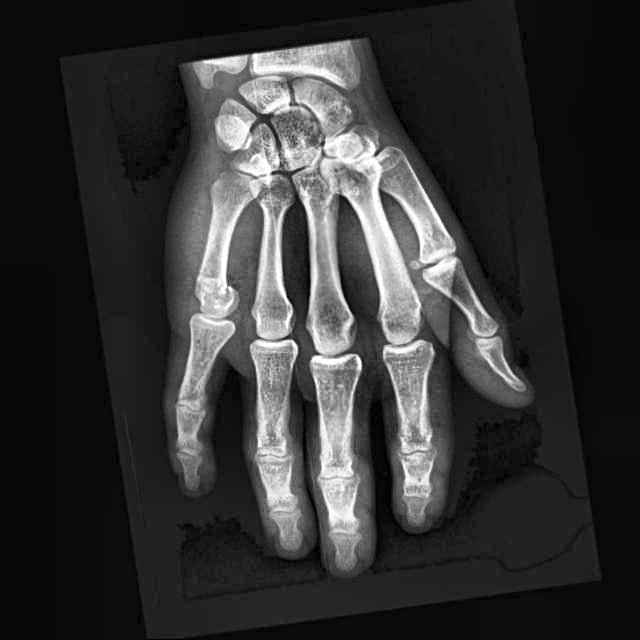Comminuted: (188, 266, 242, 327)
